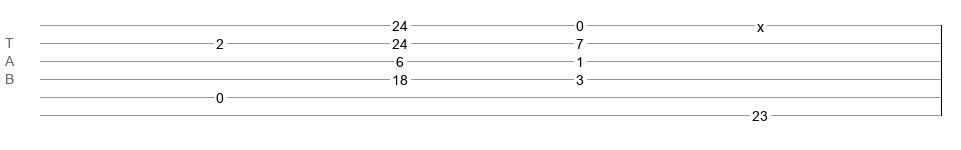0: (216, 90, 224, 100), (576, 18, 584, 28)
1: (576, 54, 584, 64)
18: (392, 72, 408, 82)
2: (216, 36, 224, 46)
23: (752, 108, 768, 118)
24: (392, 36, 408, 46), (392, 18, 408, 28)
3: (576, 72, 584, 82)
6: (396, 54, 404, 64)
7: (576, 36, 584, 46)
x: (757, 19, 764, 27)
